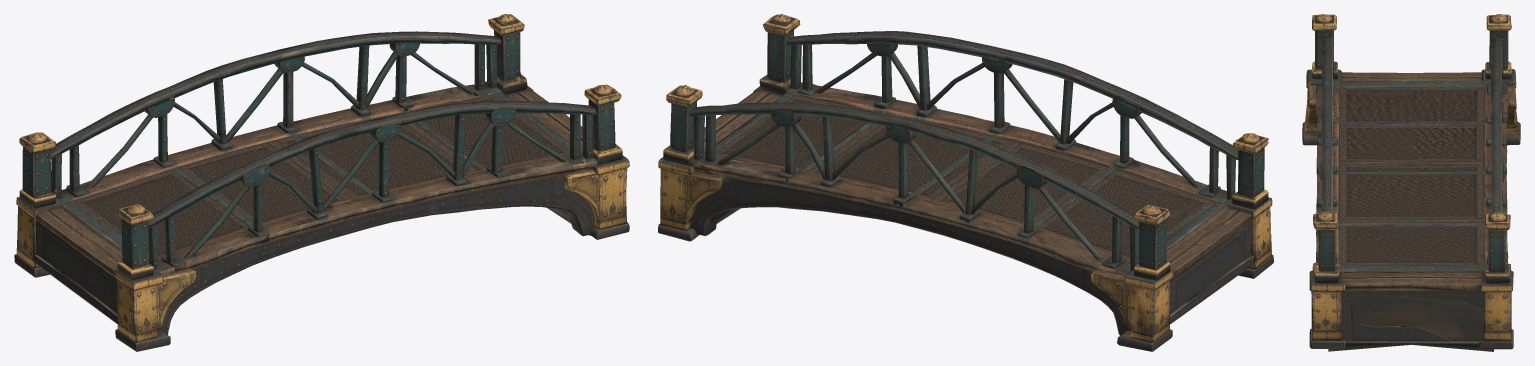
Rendered from Bridge.glb.
3 views of the same model, side by side, from view 1: azimuth 30°, elevation 25°; view 2: azimuth 150°, elevation 25°; view 3: azimuth 270°, elevation 25° (orthographic). The views are drawn at different scales.
Bounding box in the file's own units: 1 × 0.3327 × 0.428.
Materials: 1 (1 with a texture image).
